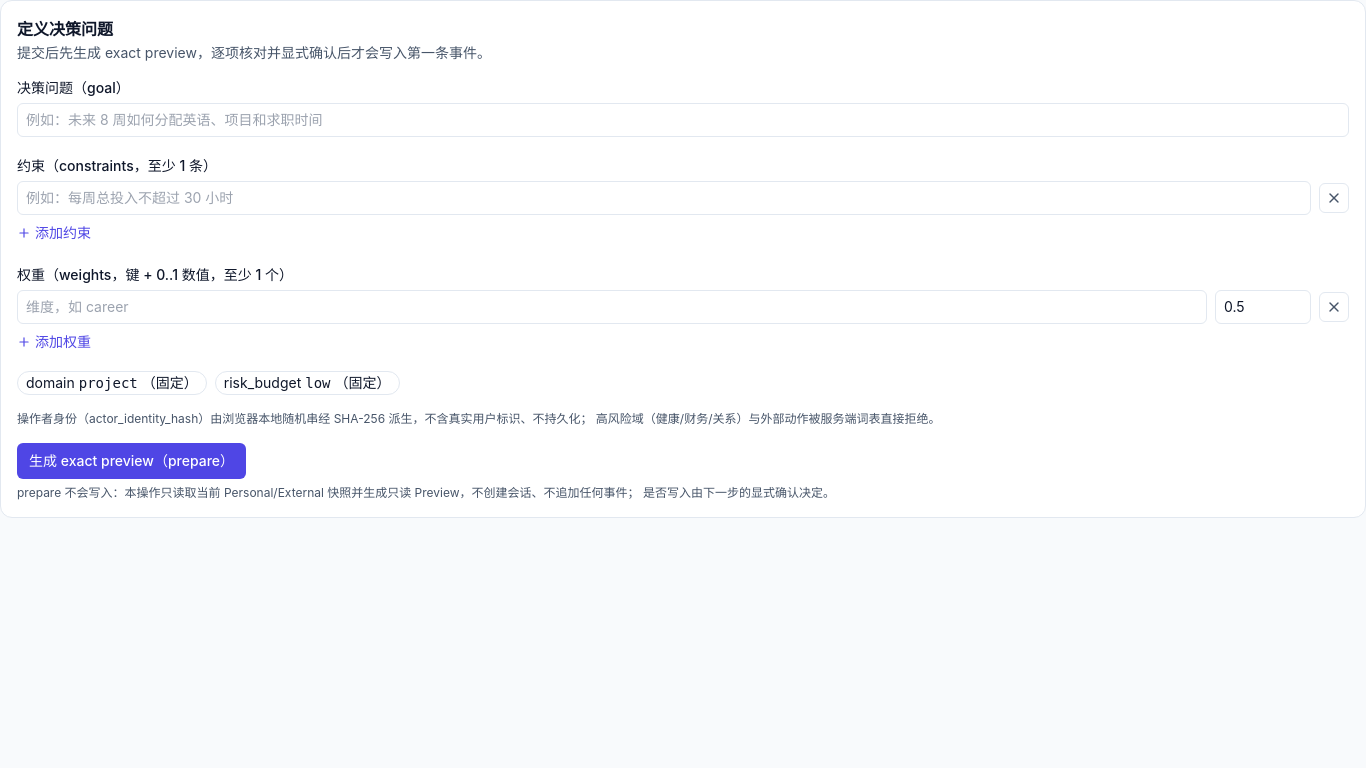
Test: NewSessionFlow › confirm 遇到 stale_expected_sequence：丢弃本地 preview（抽屉关闭），不提供"重试同一 preview"入口
Step 1. Type "未来 8 周如何分配时间" into the field labelled "决策问题（goal）" → (683, 120), box [17,103,1349,137]
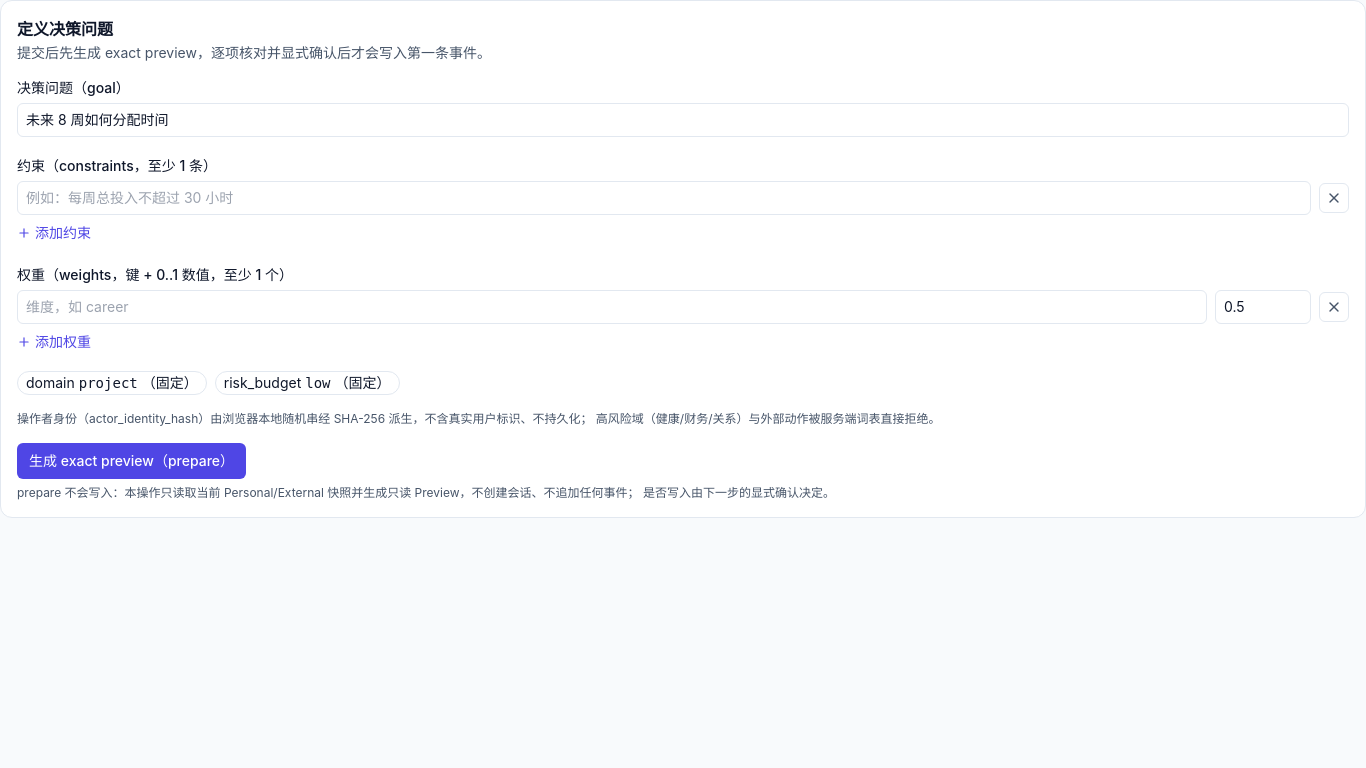
Step 2. Type "每周不超过 30 小时" into the field named "约束 1" → (664, 198), box [17,181,1311,215]
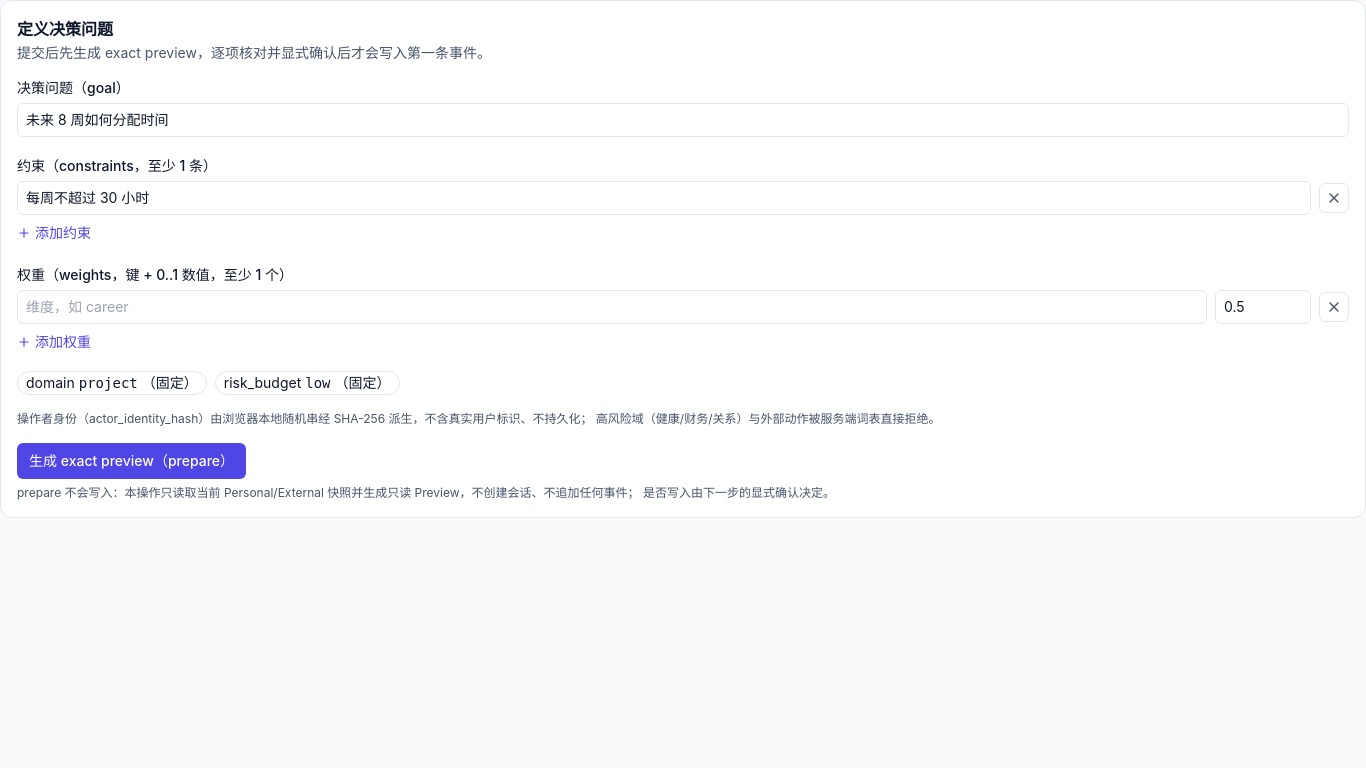
Step 3. Type "career" into the field named "权重 1 名称" → (612, 307), box [17,290,1207,324]
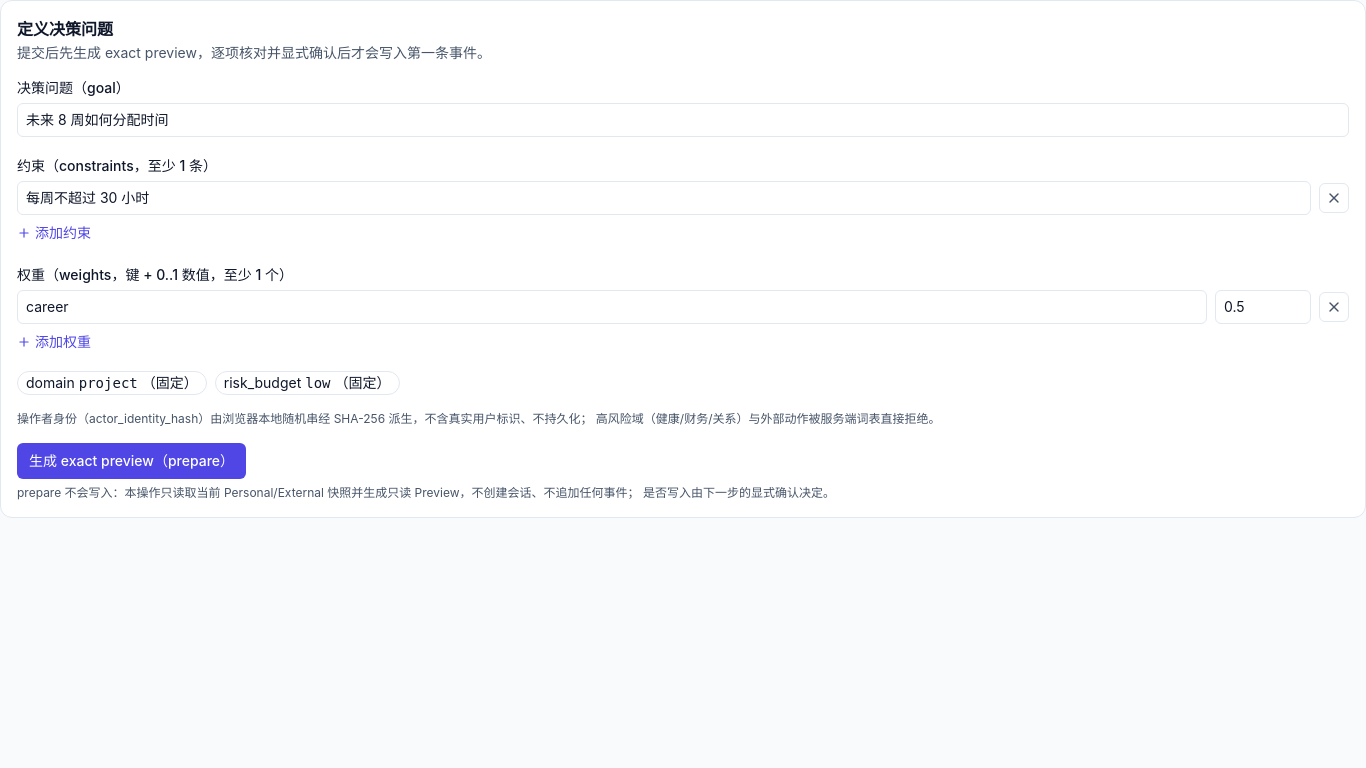
Step 4. Click the button "生成 exact preview（prepare）" → (132, 461), box [17,443,246,479]
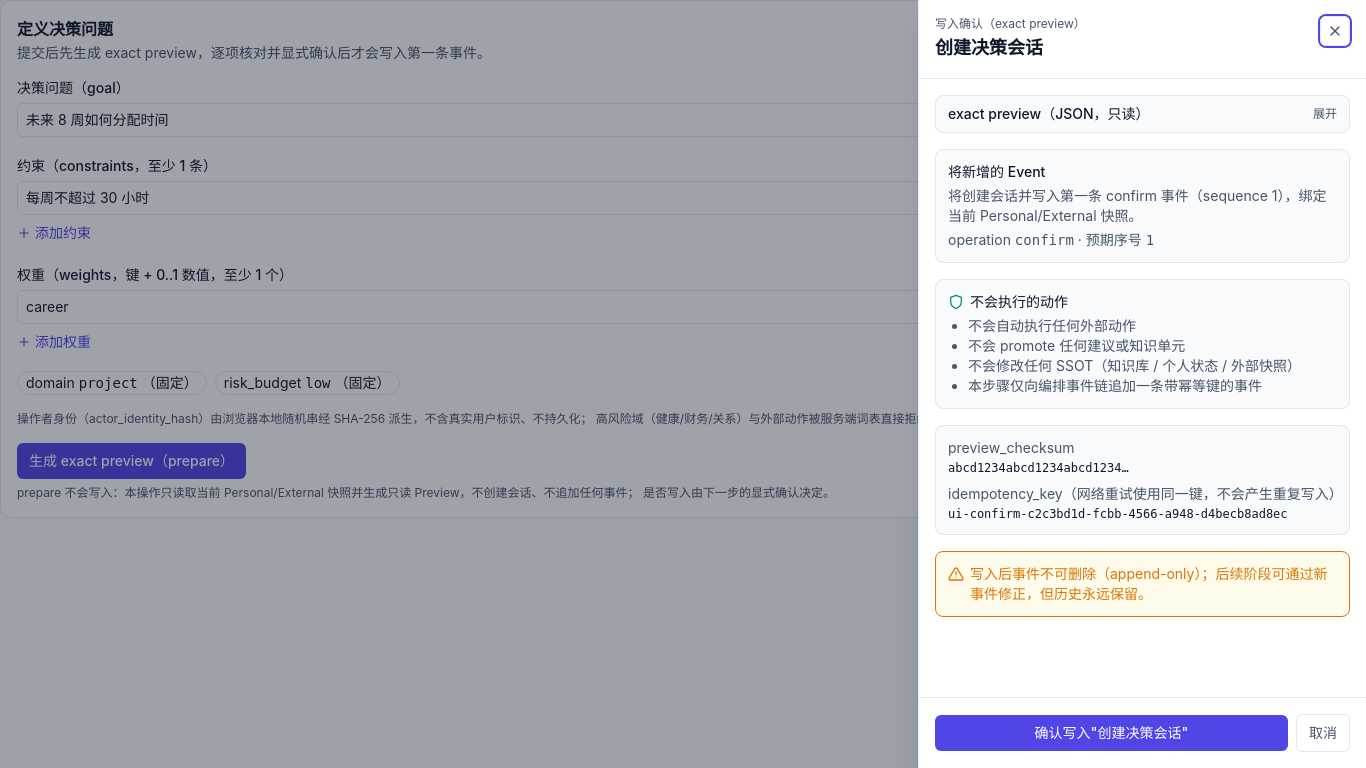
Now the dialog is shown
Step 5. Click the button "确认写入\"创建决策会话\"" → (1112, 733), box [935,715,1288,751]
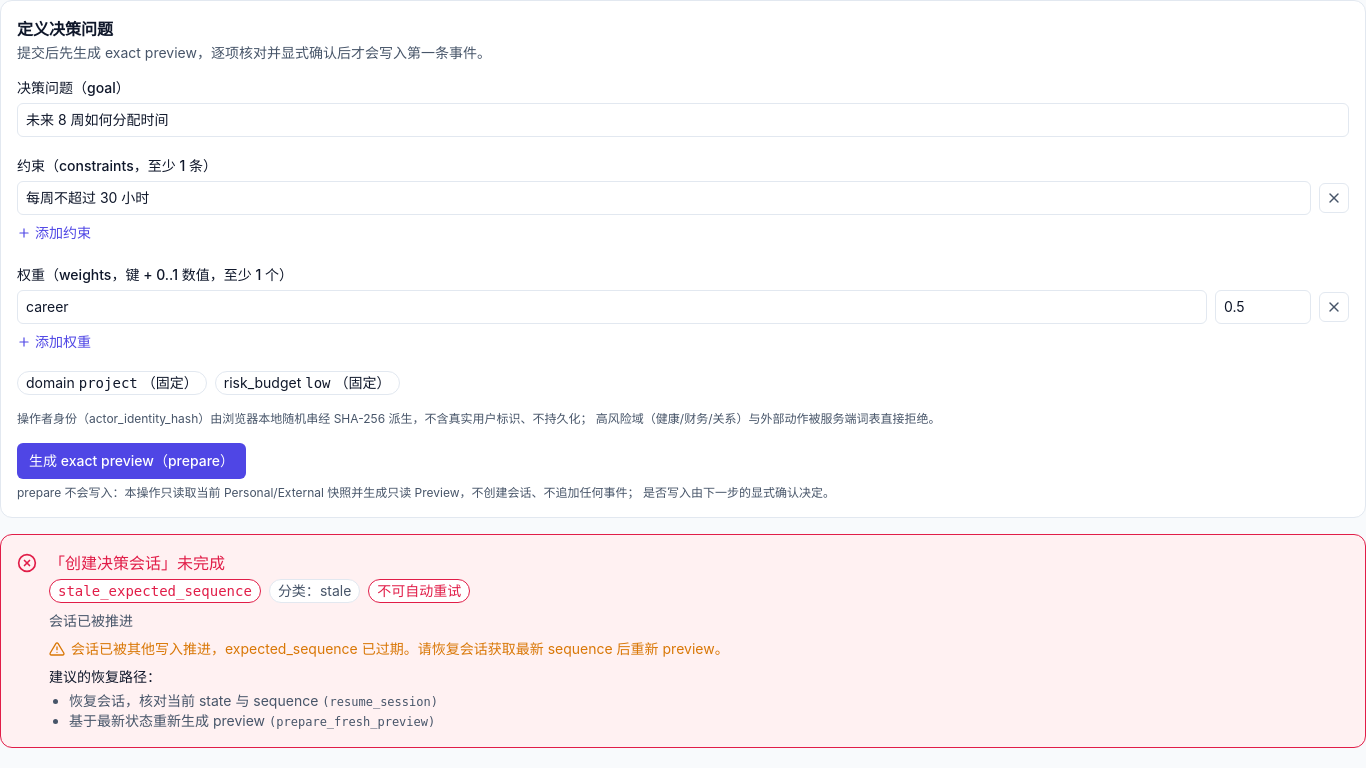
Now the message is shown, box [0,534,1365,748]
Now the dialog is gone
